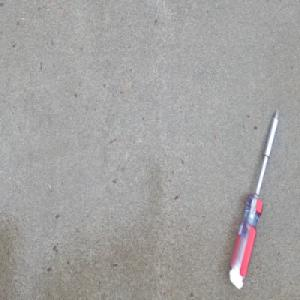Screwdriver: (227, 105, 280, 289)
